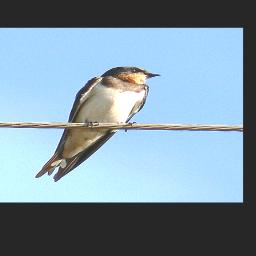Swallow: (34, 65, 163, 182)
